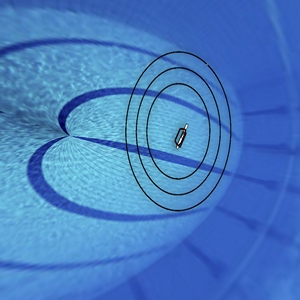circle: (111, 25, 240, 229)
submarine: (167, 119, 196, 159)
